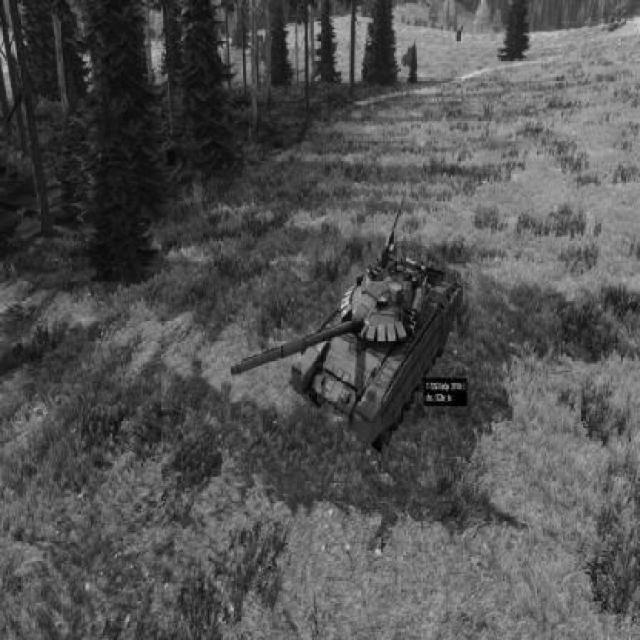Tank: (229, 190, 467, 461)
